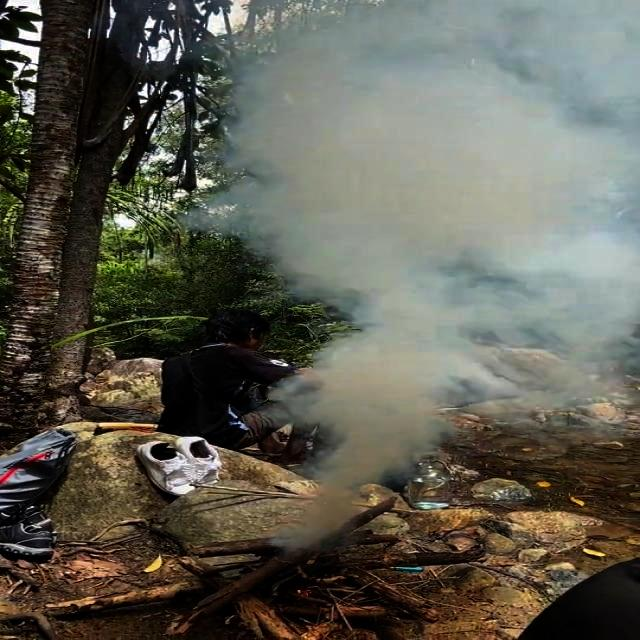smoke: (238, 5, 638, 134), (227, 120, 640, 241), (443, 218, 640, 340), (335, 332, 613, 398), (274, 205, 464, 278), (322, 282, 444, 320), (281, 371, 384, 416), (328, 420, 436, 462), (306, 449, 379, 497), (288, 501, 348, 528)
